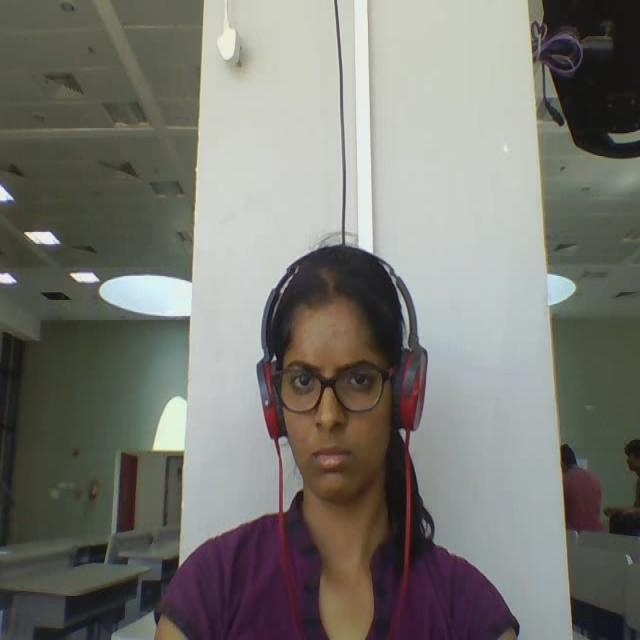Engaged: (229, 216, 488, 537)
